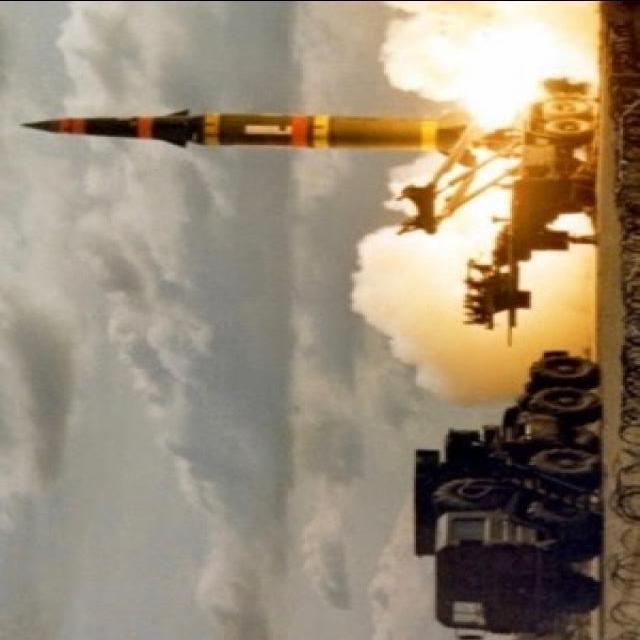missile: (18, 99, 520, 172)
